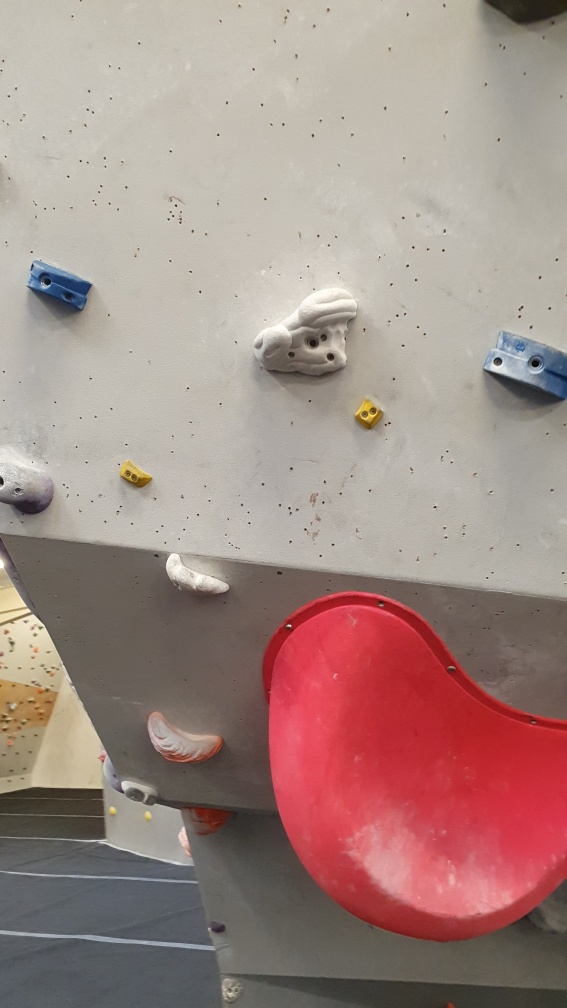Crimp: (112, 460, 160, 493)
Jug: (244, 282, 363, 381), (142, 705, 233, 767), (163, 548, 242, 606)
Pinch: (481, 324, 567, 400), (26, 257, 93, 314), (350, 396, 394, 432)
